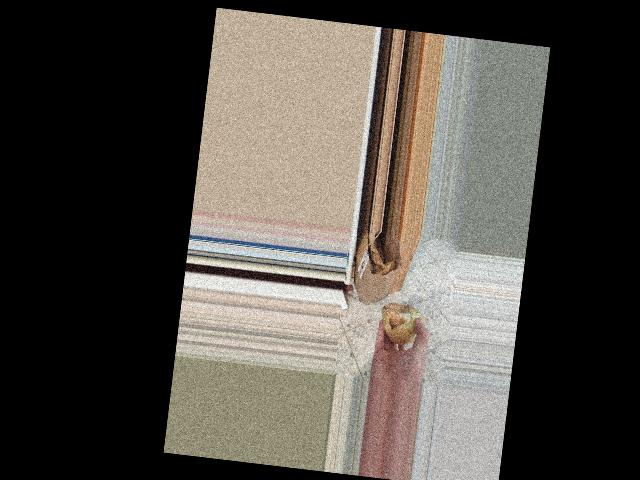onion: (377, 299, 428, 349)
